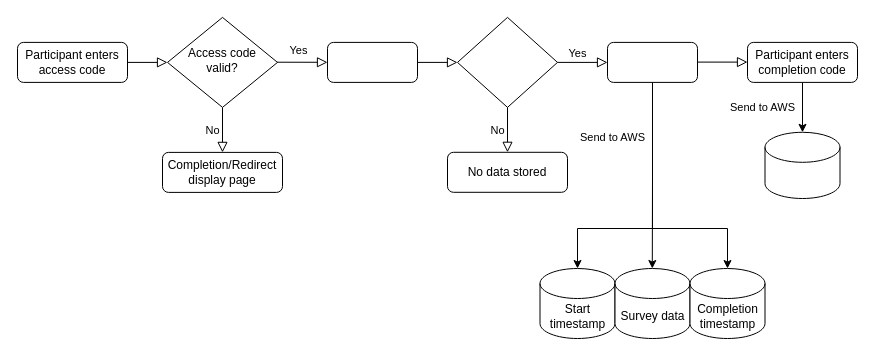
The diagram is 875 pixels wide and 357 high, and some of its shapes have lost their labels. Each missing label, with the centre of its shape:
"Completion code" belongs at pixel 802 164.
"Participant fills out survey" belongs at pixel 372 61.
"Survey complete?" belongs at pixel 507 61.
"Visualizations displayed" belongs at pixel 652 61.
